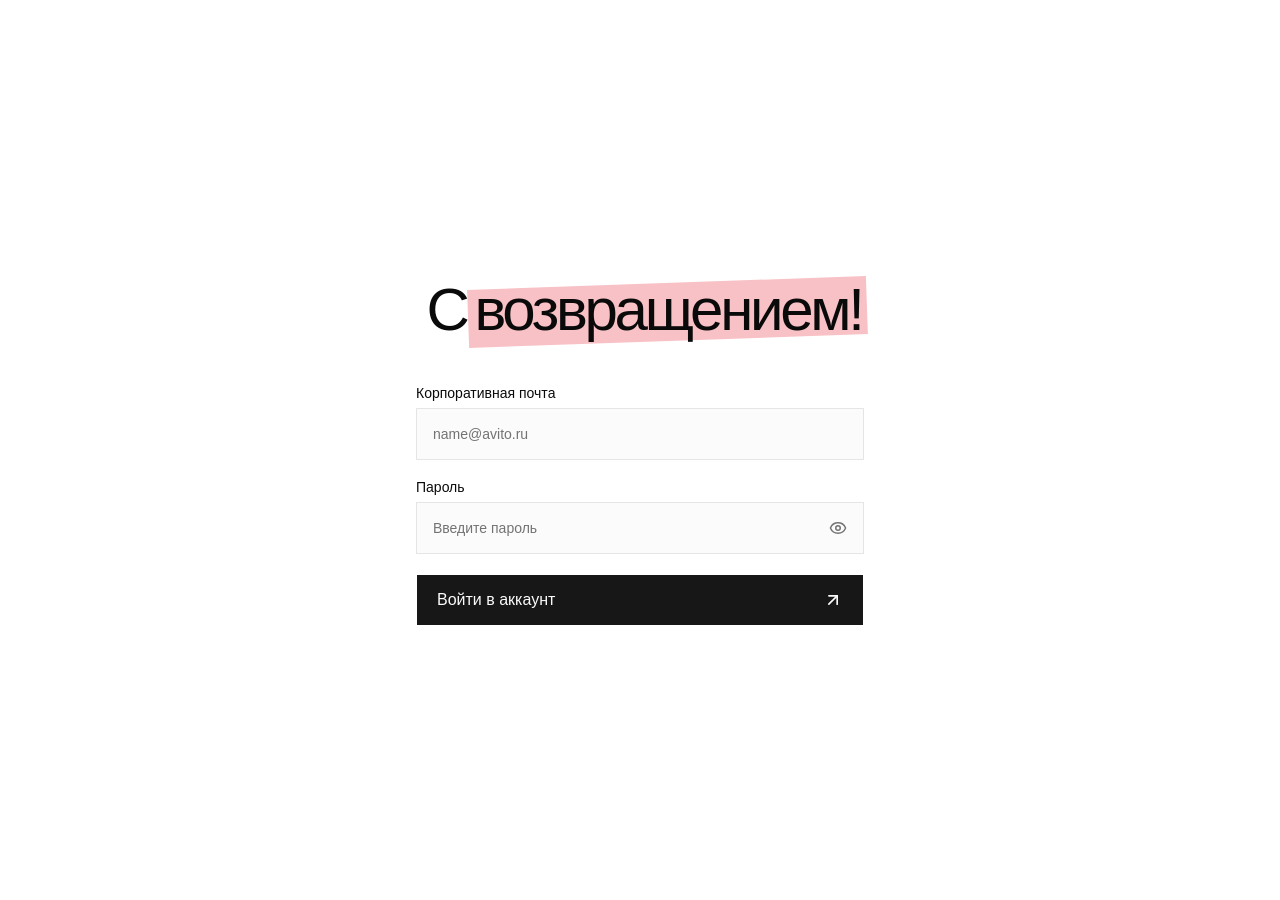
Test: runs the login, protected chat and logout flow through the actual browser router
The width and height of the screenshot is (1280, 900).
Step 1. Type "intern@avito.ru" into the field labelled "Корпоративная почта" → coordinates (640, 434), box top-left (416, 408), bottom-right (864, 460)
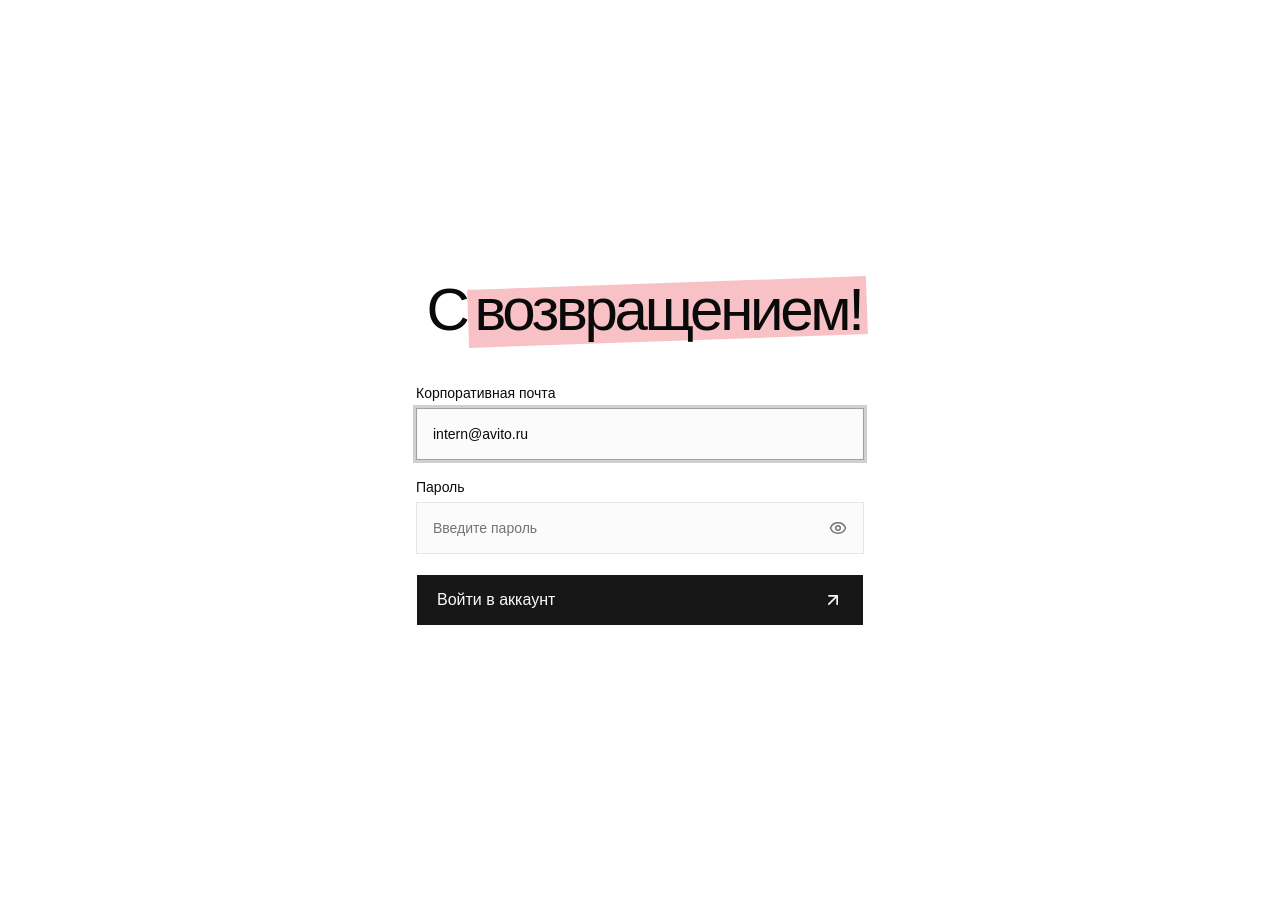
Step 2. Type "password123" into the password field labelled "Пароль" → coordinates (640, 528), box top-left (416, 502), bottom-right (864, 554)
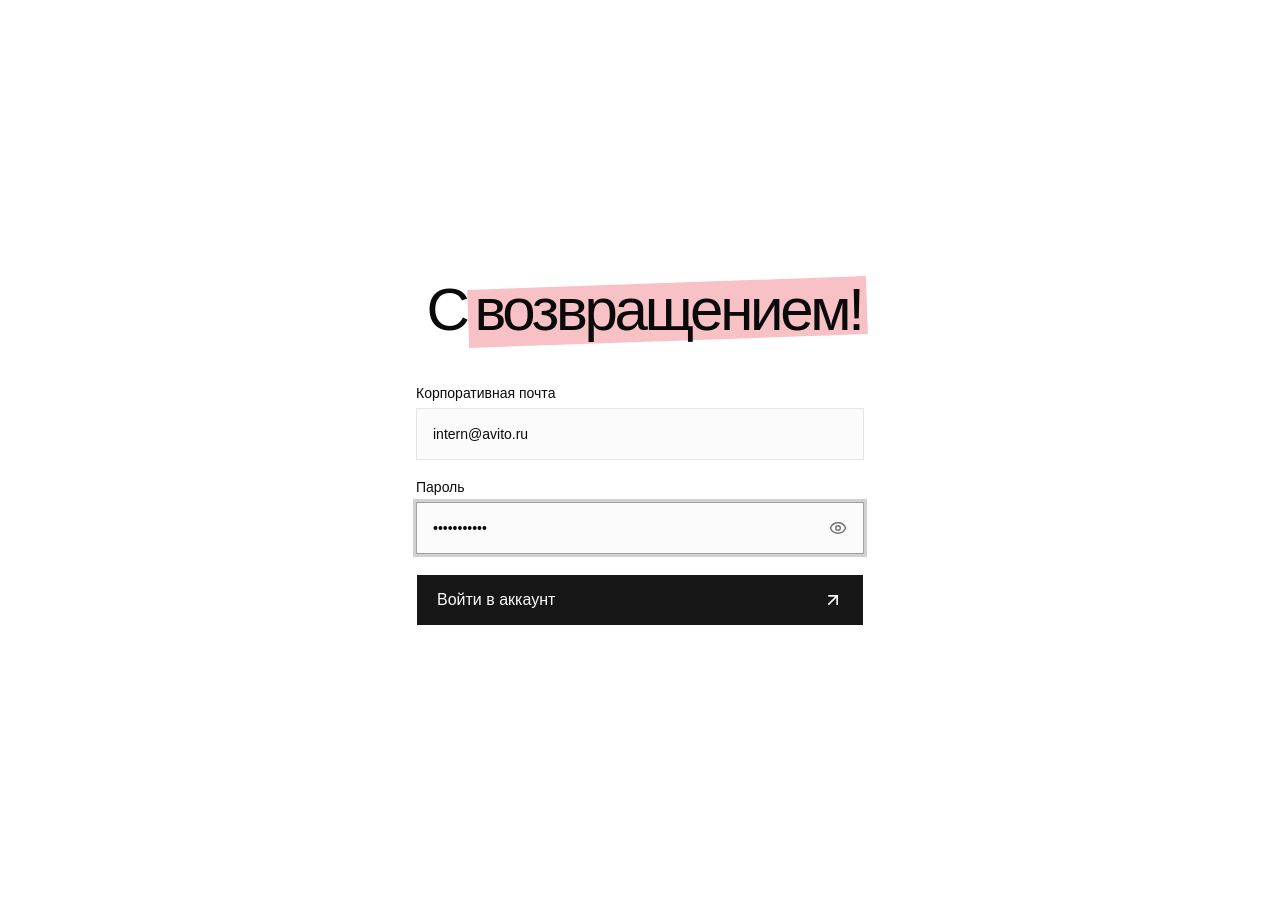
Step 3. Click the button "Войти в аккаунт" → coordinates (496, 600), box top-left (416, 574), bottom-right (864, 626)
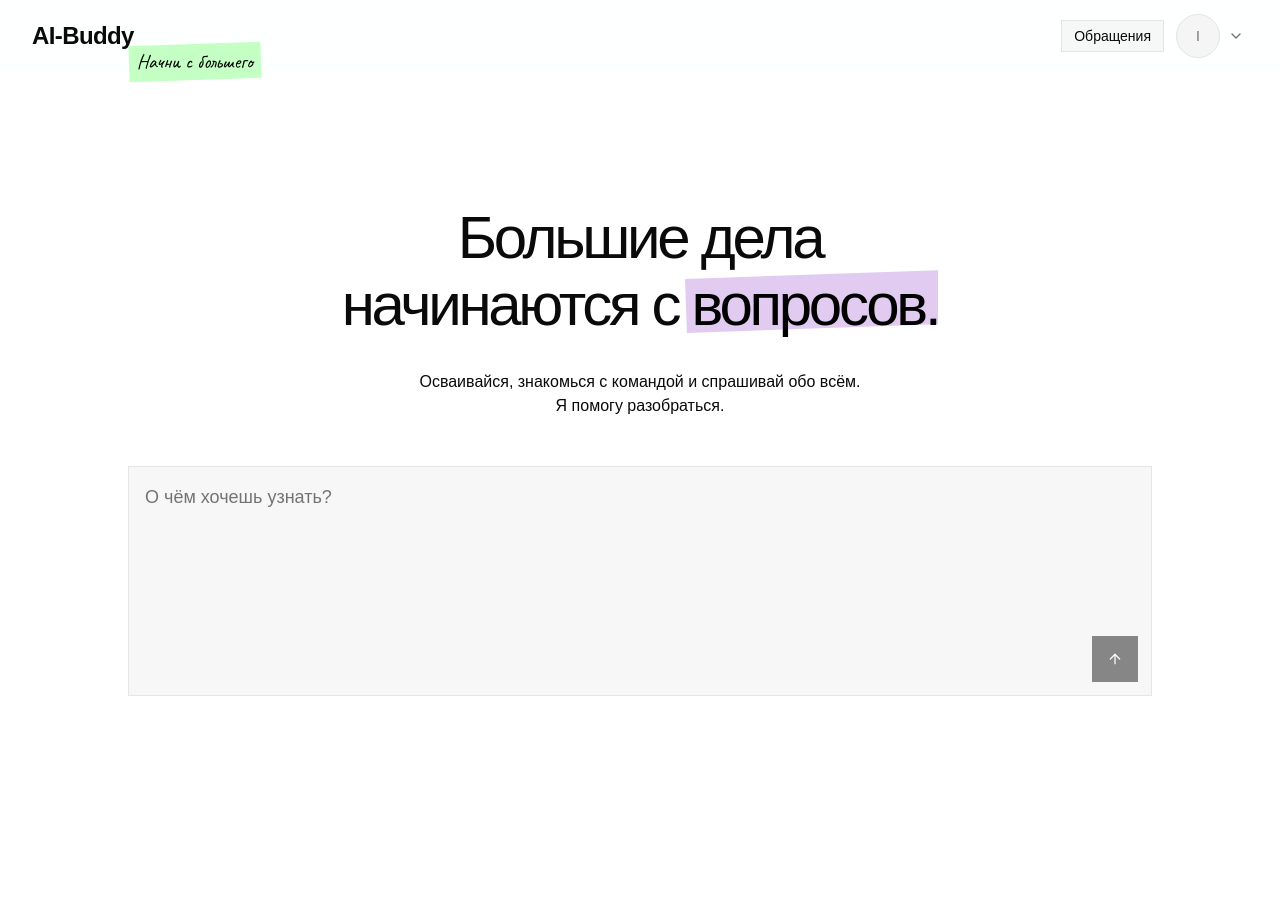
Now the text box named "Сообщение для AI Buddy" is shown, box top-left (129, 467), bottom-right (1151, 627)
Step 4. Click the button named "Меню пользователя" → coordinates (1210, 36), box top-left (1172, 10), bottom-right (1248, 62)
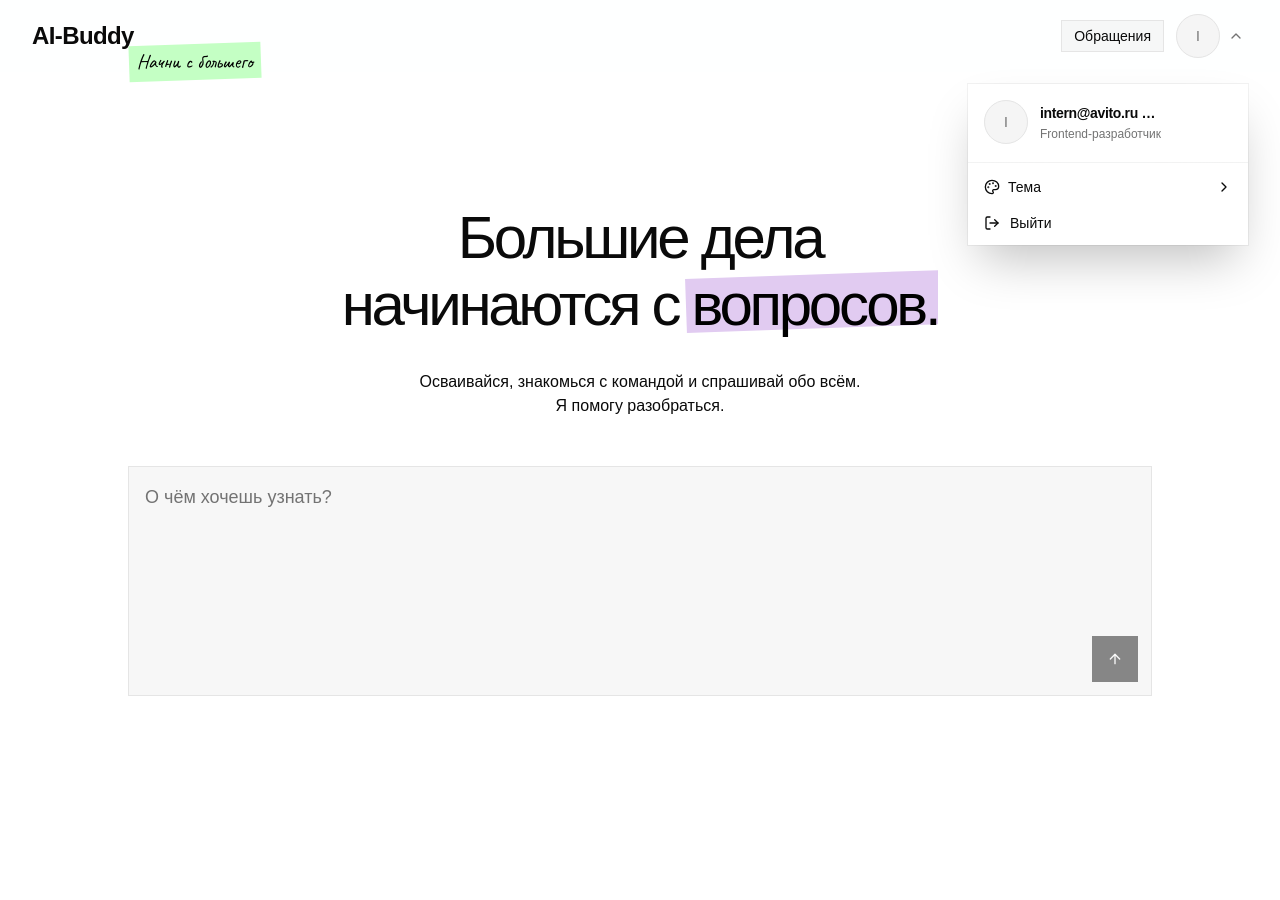
Step 5. Click the menu item "Выйти" → coordinates (1018, 223), box top-left (984, 215), bottom-right (1052, 231)
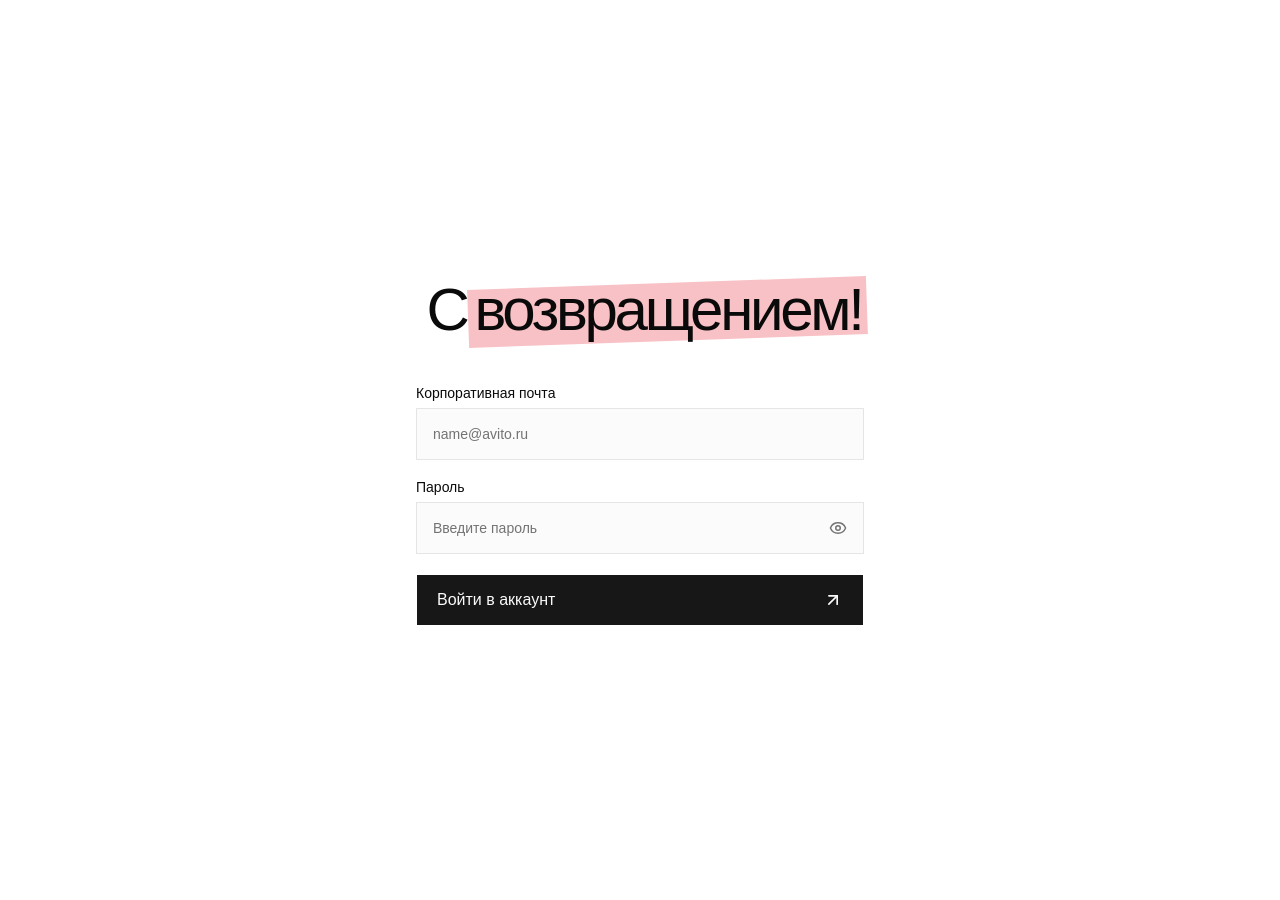
Now the button "Войти в аккаунт" is shown, box top-left (416, 574), bottom-right (864, 626)
